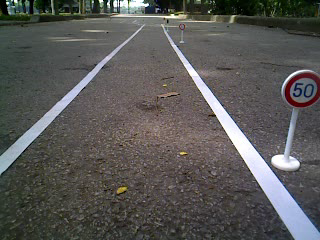limit 50: (279, 67, 320, 111)
